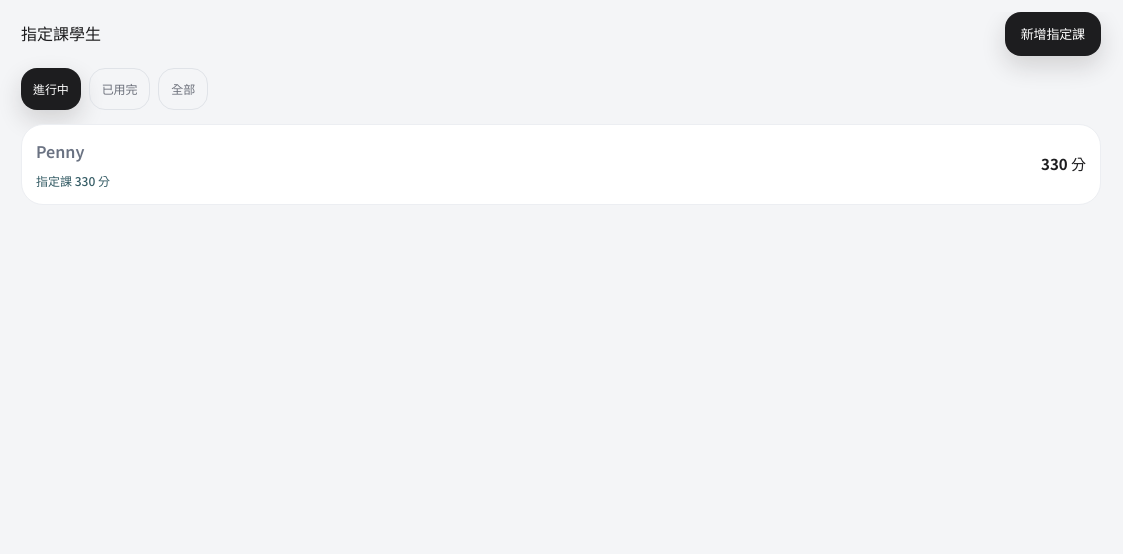
it: CoachDesignatedHours › groups the ledger by month with one balance heading per group
This screenshot has width=1123, height=554.
Click the text "Penny": coordinates (60, 151) [36,139,84,163]
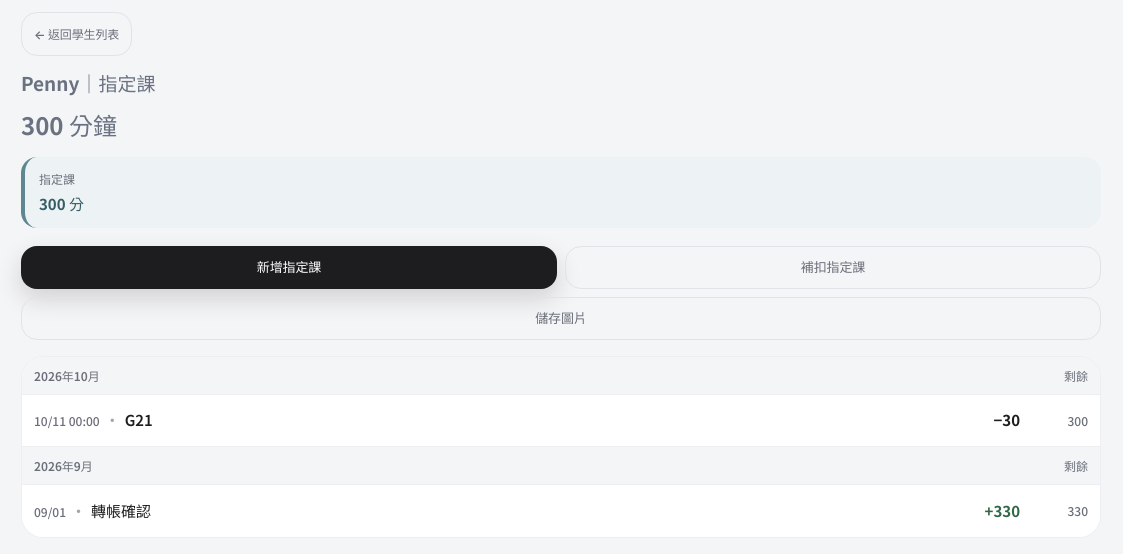
Expected: the text "2026年10月" is shown, [34,367,100,384]
Expected: the text "2026年9月" is shown, [34,457,93,474]
Expected: the text "剩餘" is shown 2 times, [1064,367,1088,384]; [1064,457,1088,474]
